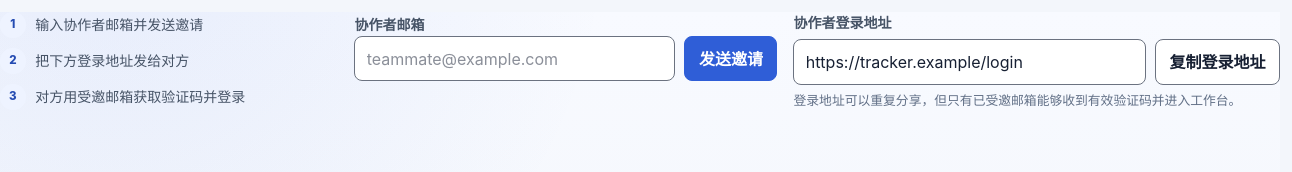
it: submits an invitation with accessible success and failure feedback
Type "new@example.com" into the field labelled "协作者邮箱" at (515, 59), box [354,36,675,81]
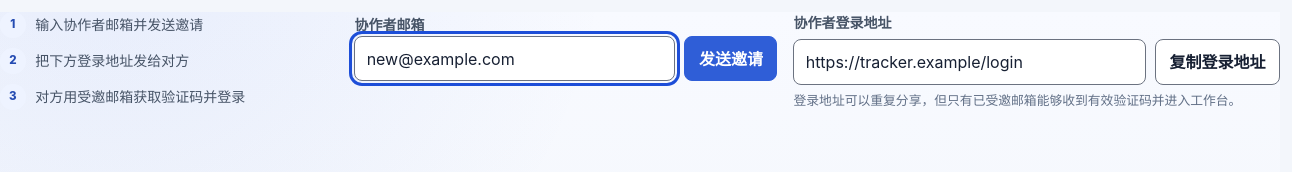
Click the button "发送邀请" at (731, 59), box [684,36,778,81]
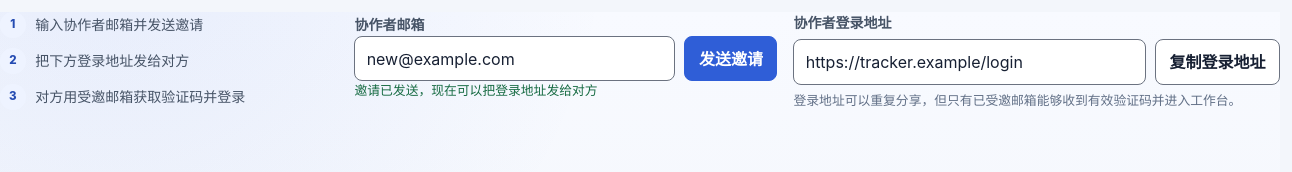
Expected: the field labelled "协作者登录地址" holds "https://tracker.example/login", [794,39,1146,85]
Expected: the text "邀请已发送，现在可以把登录地址发给对方" is shown, [354,83,598,98]
